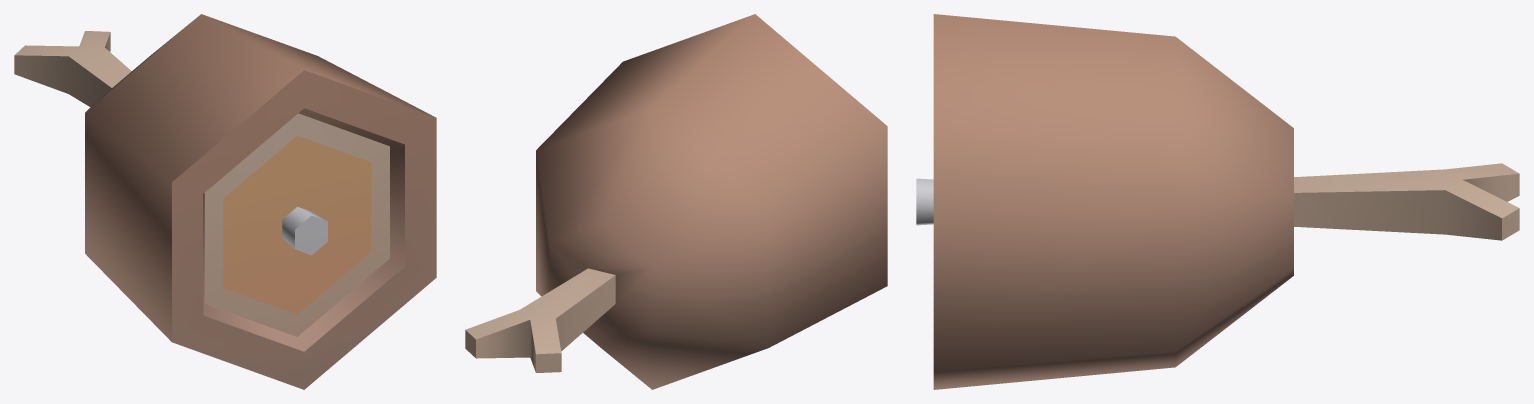
Rendered from whole-ham.glb.
The picture shows the model from 3 angles, left to right: view 1: azimuth 30°, elevation 25°; view 2: azimuth 150°, elevation 25°; view 3: azimuth 270°, elevation 25°; orthographic projection. The views are drawn at different scales.
Visible parts, largest first — view 1: whole-ham; view 2: whole-ham; view 3: whole-ham.
Part boxes in pixels (<box>): whole-ham: <box>14,14,436,389</box>; whole-ham: <box>465,14,887,389</box>; whole-ham: <box>916,14,1519,389</box>.
Size of the model in its own units: 0.3809 by 0.4399 by 0.6397.
